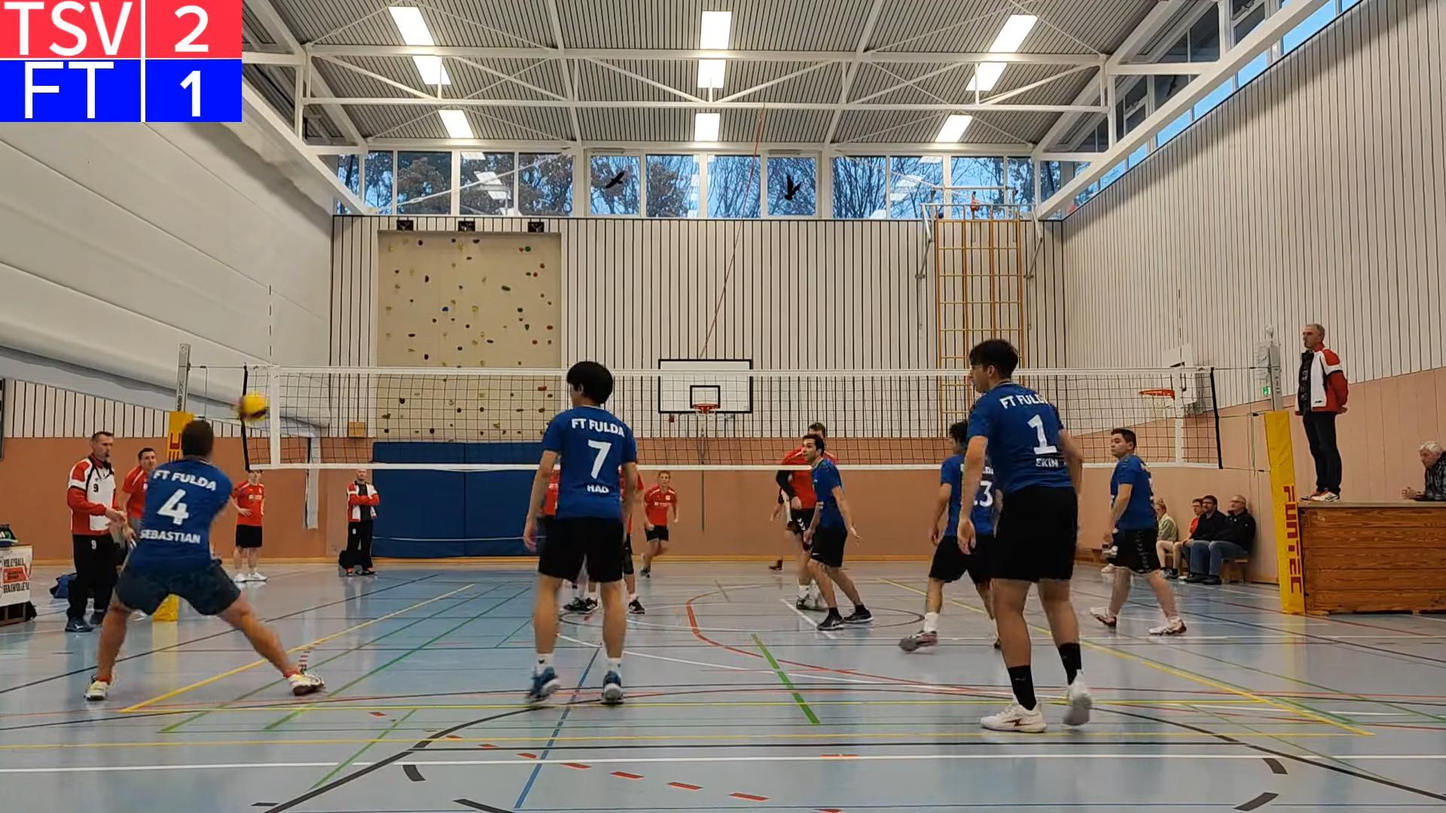ricezione: (83, 418, 324, 703)
